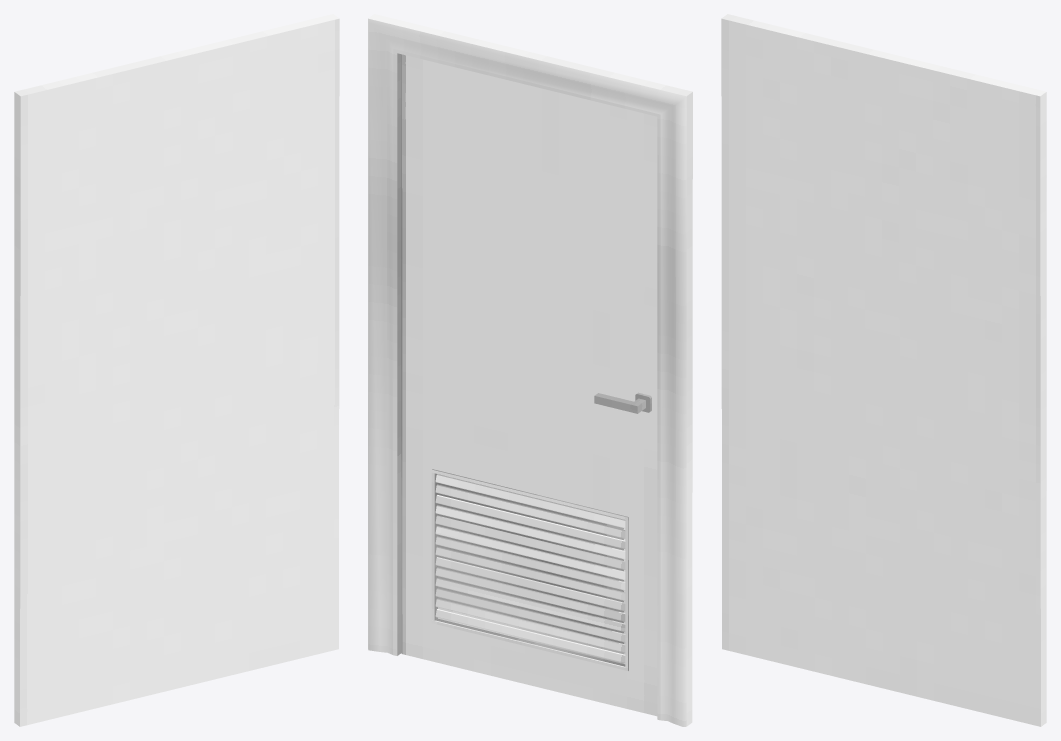
Rendered from DoorHalfLouverSnapToWall.glb.
3 views of the same model, side by side, from view 1: azimuth 30°, elevation 25°; view 2: azimuth 150°, elevation 25°; view 3: azimuth 330°, elevation 25° (orthographic).
Parts seen in each view (by area): view 1: DoorHalfLouverSnapToWall; view 2: DoorHalfLouverSnapToWall; view 3: DoorHalfLouverSnapToWall.
Part boxes in pixels (x1,y1,x2,y2): DoorHalfLouverSnapToWall: (14, 14, 339, 726); DoorHalfLouverSnapToWall: (368, 14, 692, 726); DoorHalfLouverSnapToWall: (721, 14, 1046, 726).
Bounding box in the file's own units: 1.12 × 2.13 × 0.0835.
Materials: 1 (1 with a texture image).
